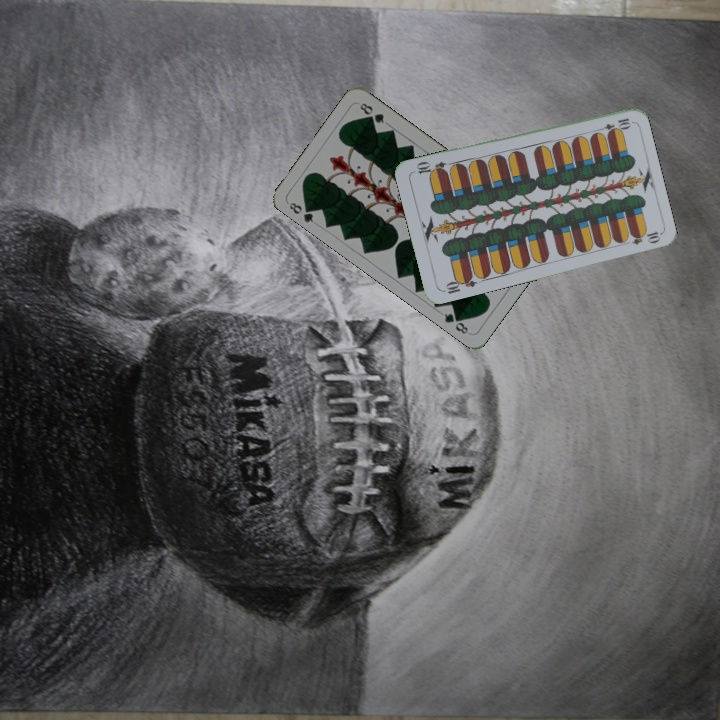E10: (439, 271, 479, 296), (593, 114, 633, 135)
G8: (285, 198, 317, 225)
